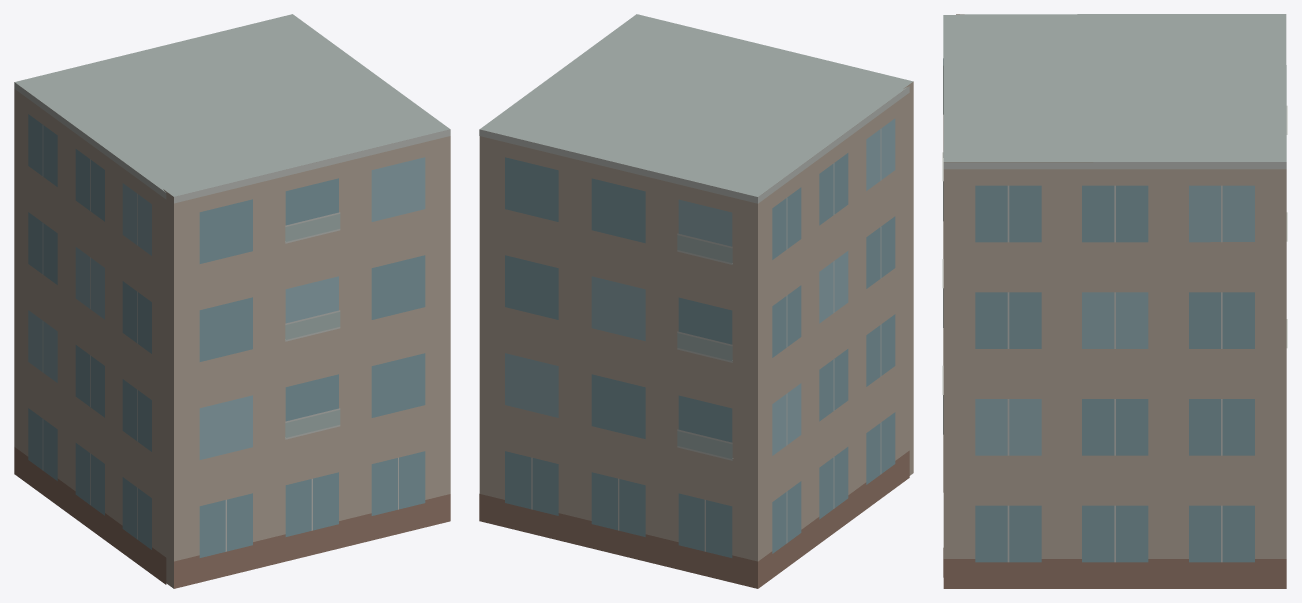
File: survey-upis-32917406.glb
3 renders of one model, left to right at view 1: azimuth 30°, elevation 25°; view 2: azimuth 150°, elevation 25°; view 3: azimuth 270°, elevation 25°, orthographic. The views are drawn at different scales.
Parts seen in each view (by area): view 1: survey-upis-32917406.tmp; view 2: survey-upis-32917406.tmp; view 3: survey-upis-32917406.tmp.
Boxes of the visible parts, x1,y1,x2,y2 form: survey-upis-32917406.tmp: (14,14,450,588); survey-upis-32917406.tmp: (479,14,913,588); survey-upis-32917406.tmp: (942,14,1287,588).
Bounding box in the file's own units: 10.73 × 14.4 × 10.57.
